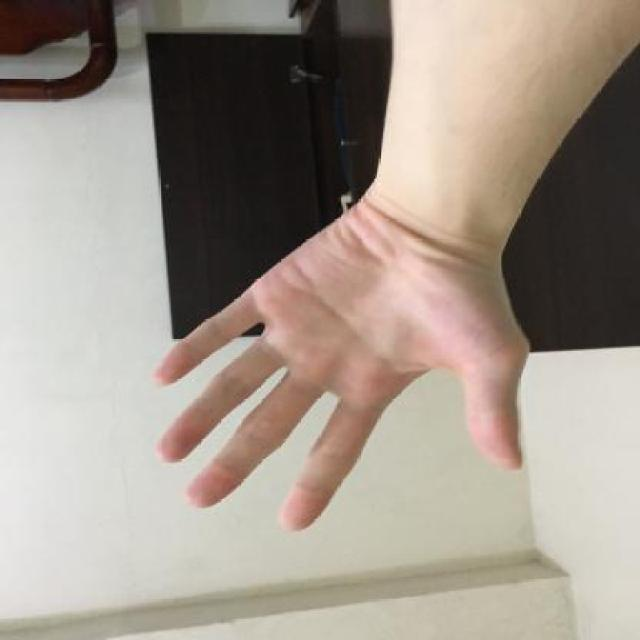bare_hand: (126, 187, 563, 550)
